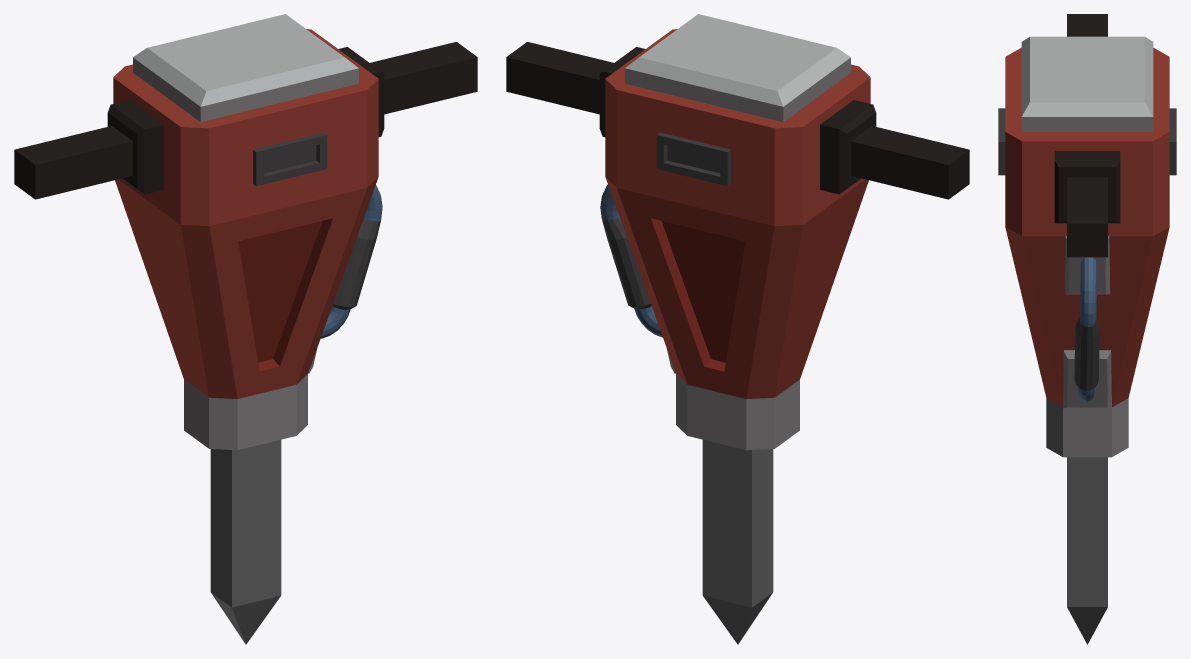
The model's file is SimpleDrill.fbx.
3 views of the same model, side by side, from view 1: azimuth 30°, elevation 25°; view 2: azimuth 150°, elevation 25°; view 3: azimuth 270°, elevation 25° (orthographic). The views are drawn at different scales.
Parts seen in each view (by area): view 1: SimpleDrill; view 2: SimpleDrill; view 3: SimpleDrill.
Boxes of the visible parts, <box> form: SimpleDrill: <box>14,14,477,644</box>; SimpleDrill: <box>506,14,969,644</box>; SimpleDrill: <box>998,14,1176,644</box>.
Bounding box in the file's own units: 181 × 232 × 65.
